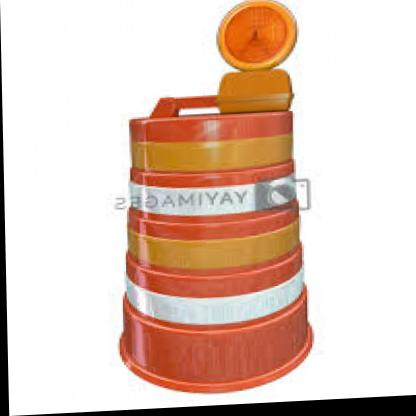obstacle: (105, 92, 312, 404)
